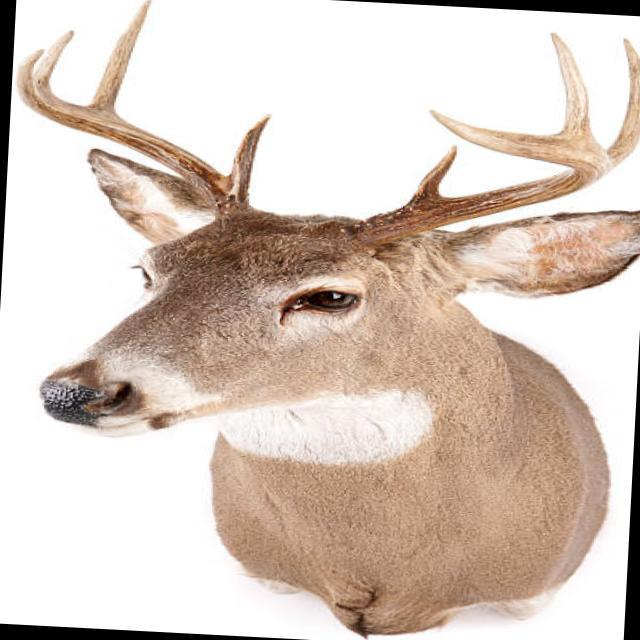L-F: (351, 108, 614, 250)
L-G1: (409, 143, 458, 203)
L-G2: (607, 37, 640, 168)
L-G3: (548, 31, 600, 144)
R-F: (14, 48, 277, 221)
R-G1: (226, 110, 276, 192)
R-G2: (85, 0, 154, 118)
R-G3: (33, 28, 75, 98)
